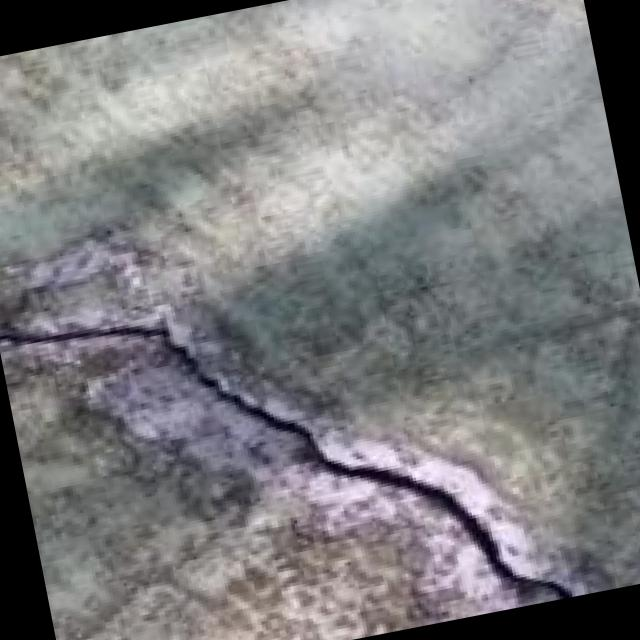crack: (0, 234, 578, 640)
